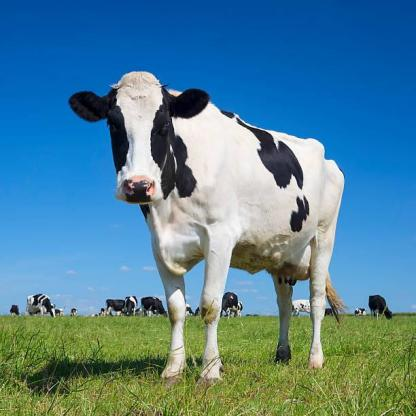cow: (70, 72, 347, 383), (368, 294, 392, 318), (26, 294, 54, 314), (221, 290, 240, 315), (142, 297, 166, 315), (291, 298, 312, 314), (105, 298, 126, 314), (124, 294, 136, 317), (354, 307, 367, 317)
